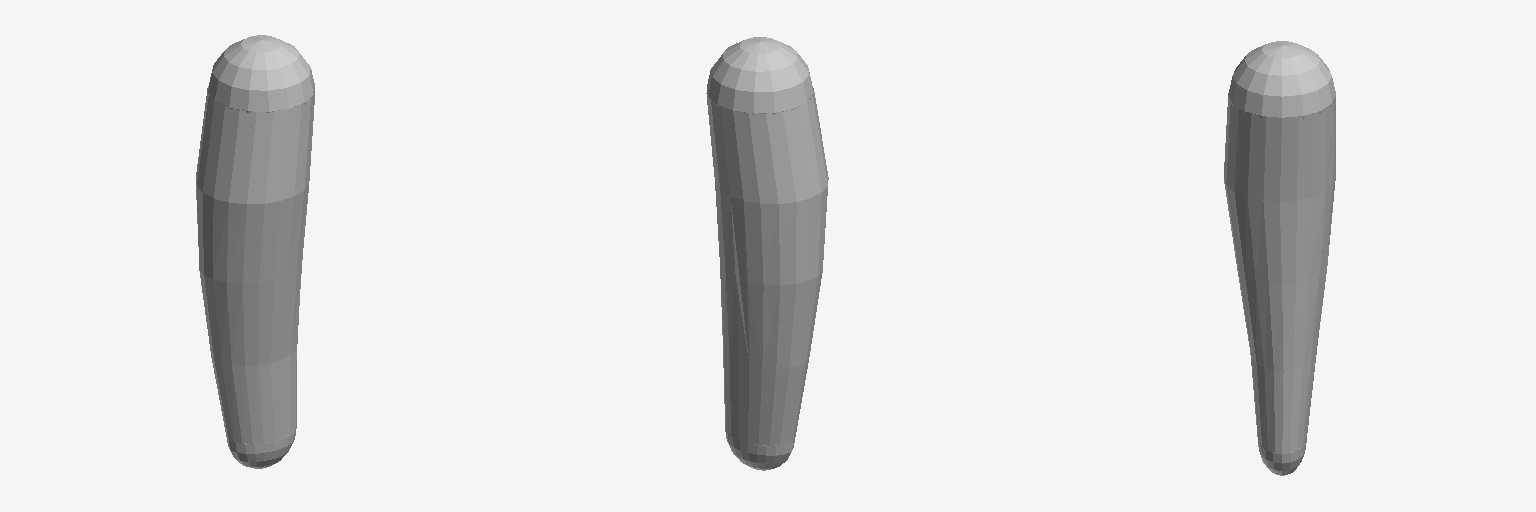
File: L_LEG_LOWER2.obj
3 views of the same model, side by side, from view 1: azimuth 30°, elevation 25°; view 2: azimuth 150°, elevation 25°; view 3: azimuth 270°, elevation 25° (orthographic).
Size of the model in its own units: 0.1142 by 0.435 by 0.1042.